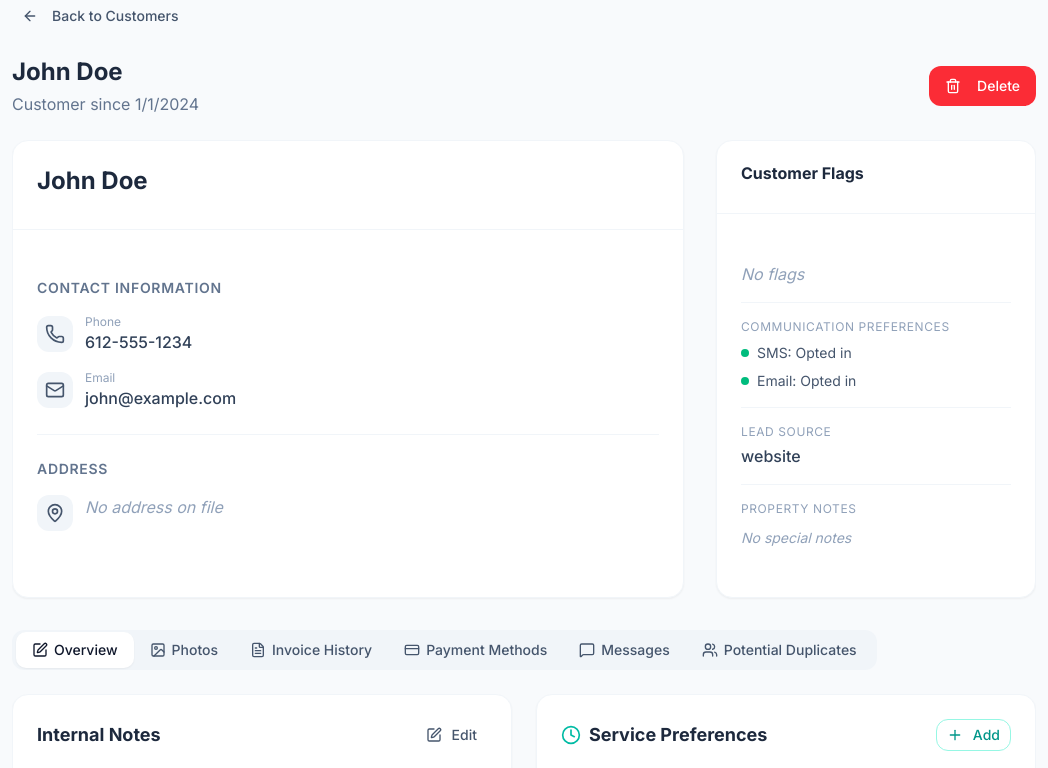
Scenario: CustomerDetail › switches to Photos tab
What coordinates should you click on to do the following:
click the tab with test id "tab-photos"
I would click on:
 (184, 650)
Its box is [134,632,234,668].
(page scrolled)
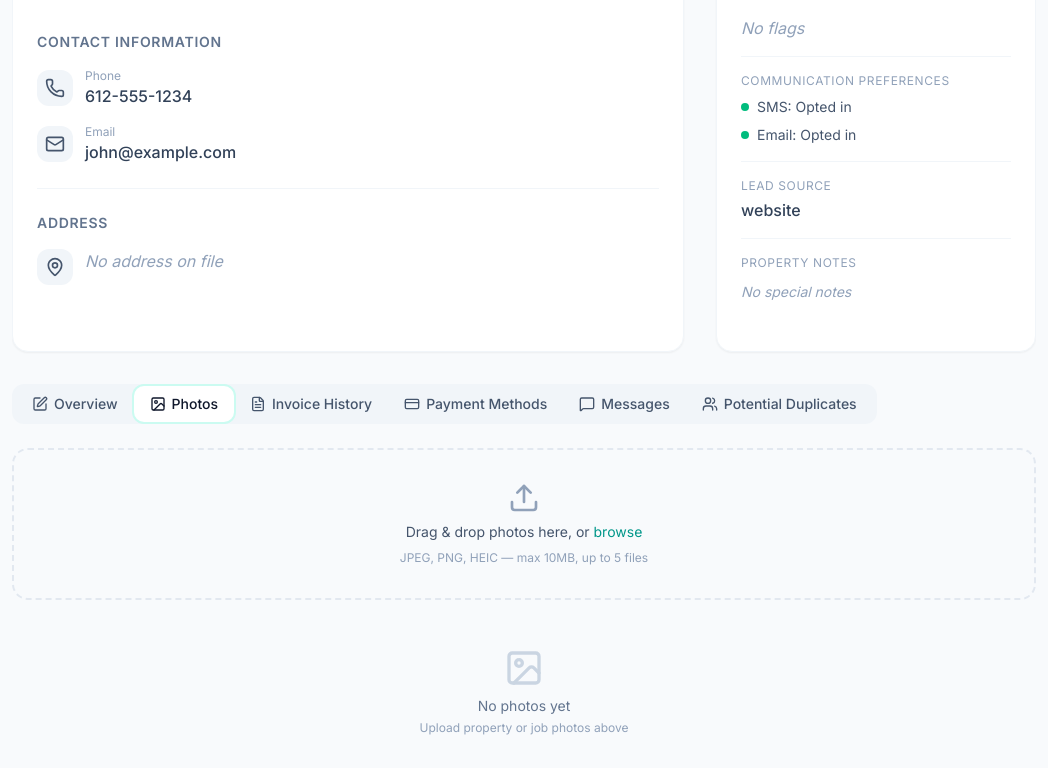
Check: the element with test id "photo-gallery" is shown, box [12,448,1036,767]
